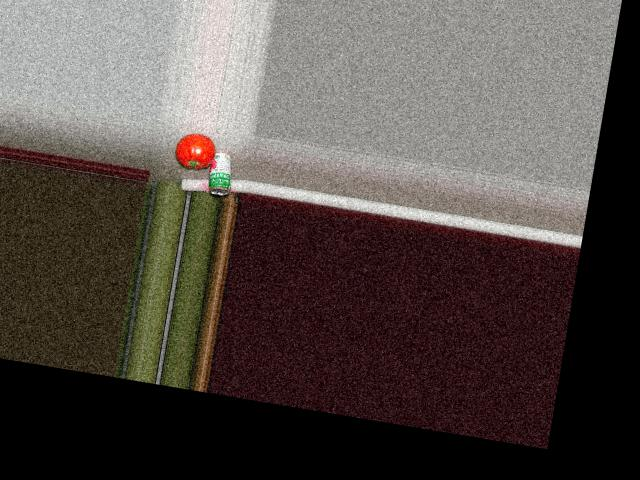tomato: (173, 130, 217, 170)
